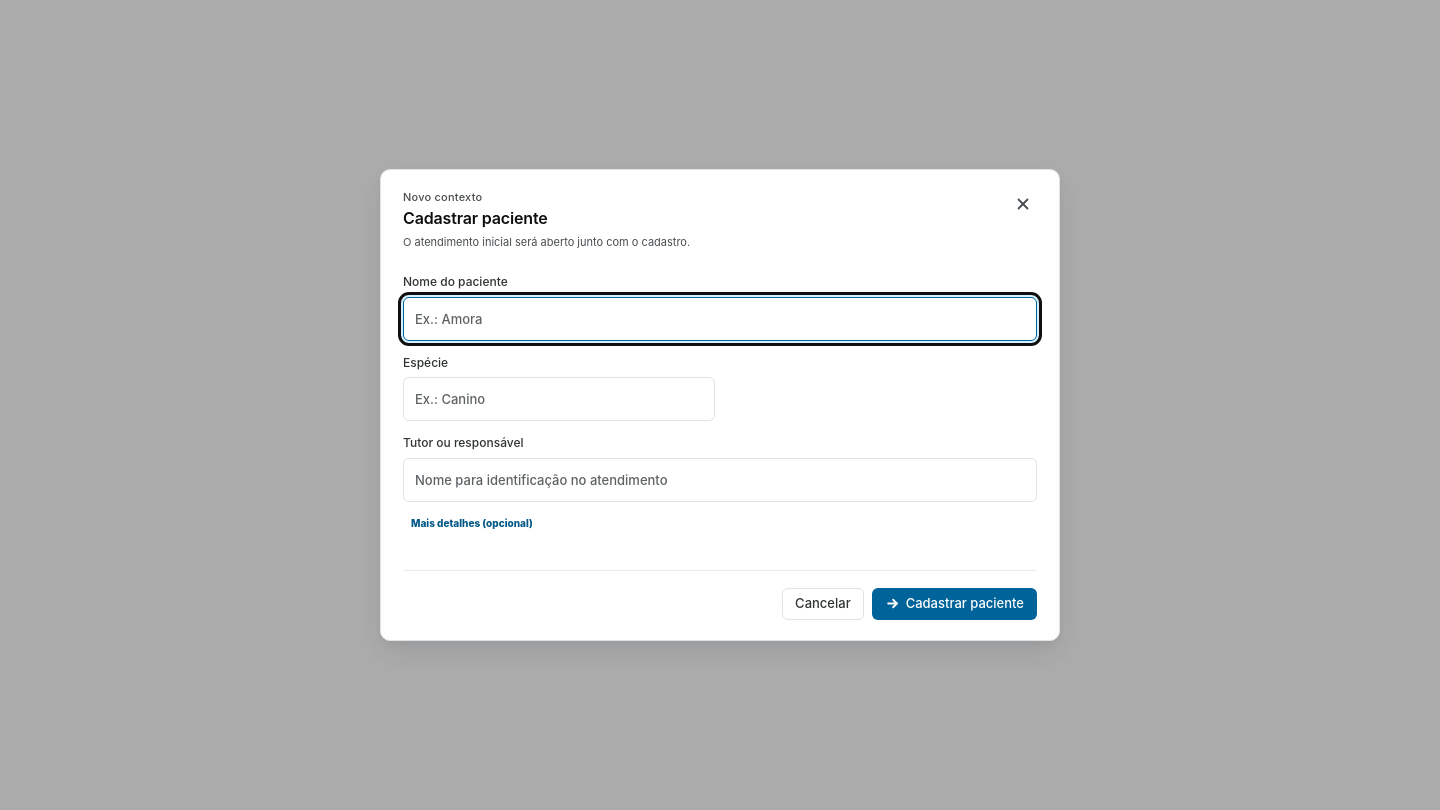
PatientDialog › blocks inpatient submission without a registered eligible bed even with optional details collapsed
Type "Amora" into the field labelled "Nome do paciente" at (720, 319), box [403,297,1037,341]
Type "Canino" into the field labelled "Espécie" at (559, 399), box [403,377,715,421]
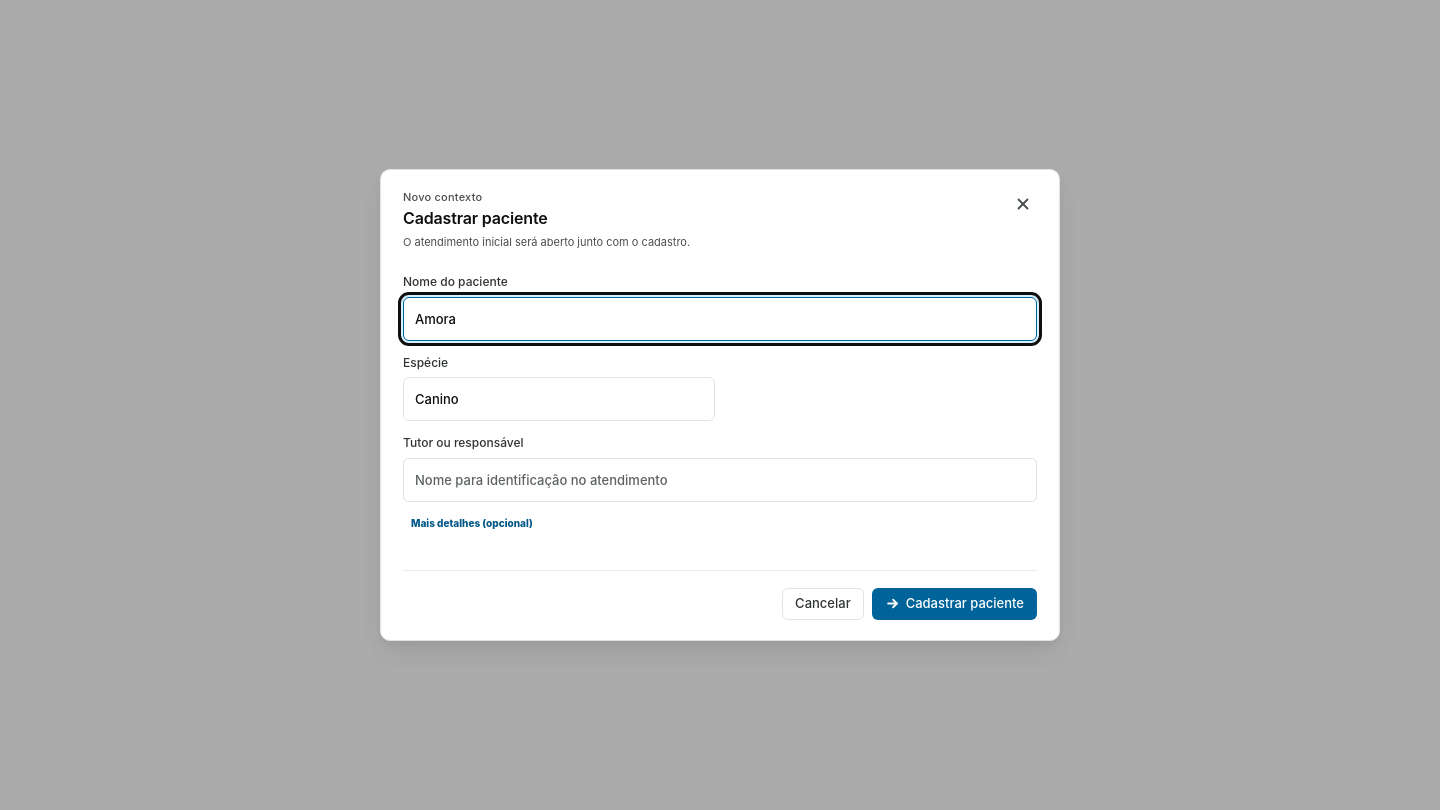
Type "Maria" into the field labelled "Tutor ou responsável" at (720, 480), box [403,458,1037,502]
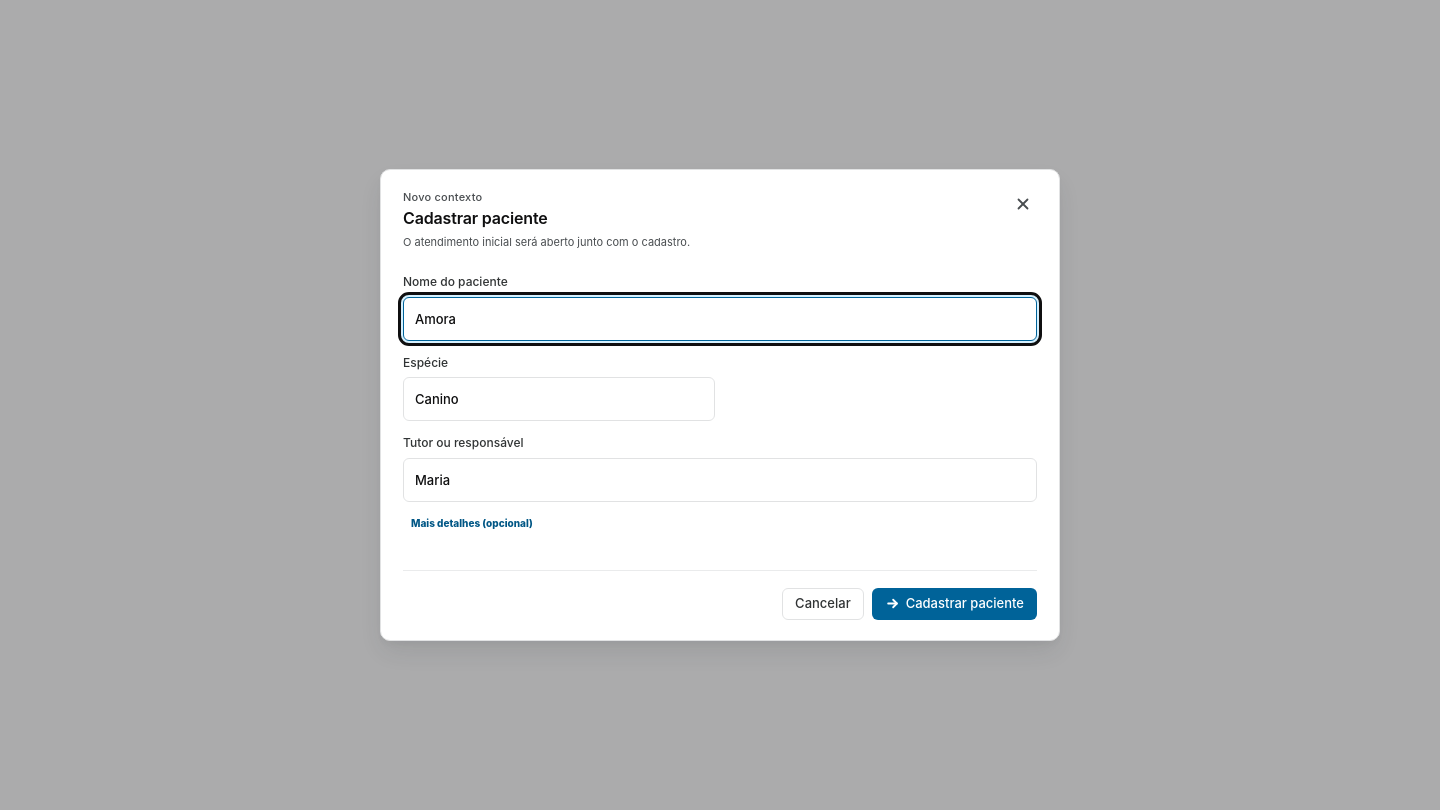
Click the button "Mais detalhes (opcional)" at (472, 524), box [403,502,541,546]
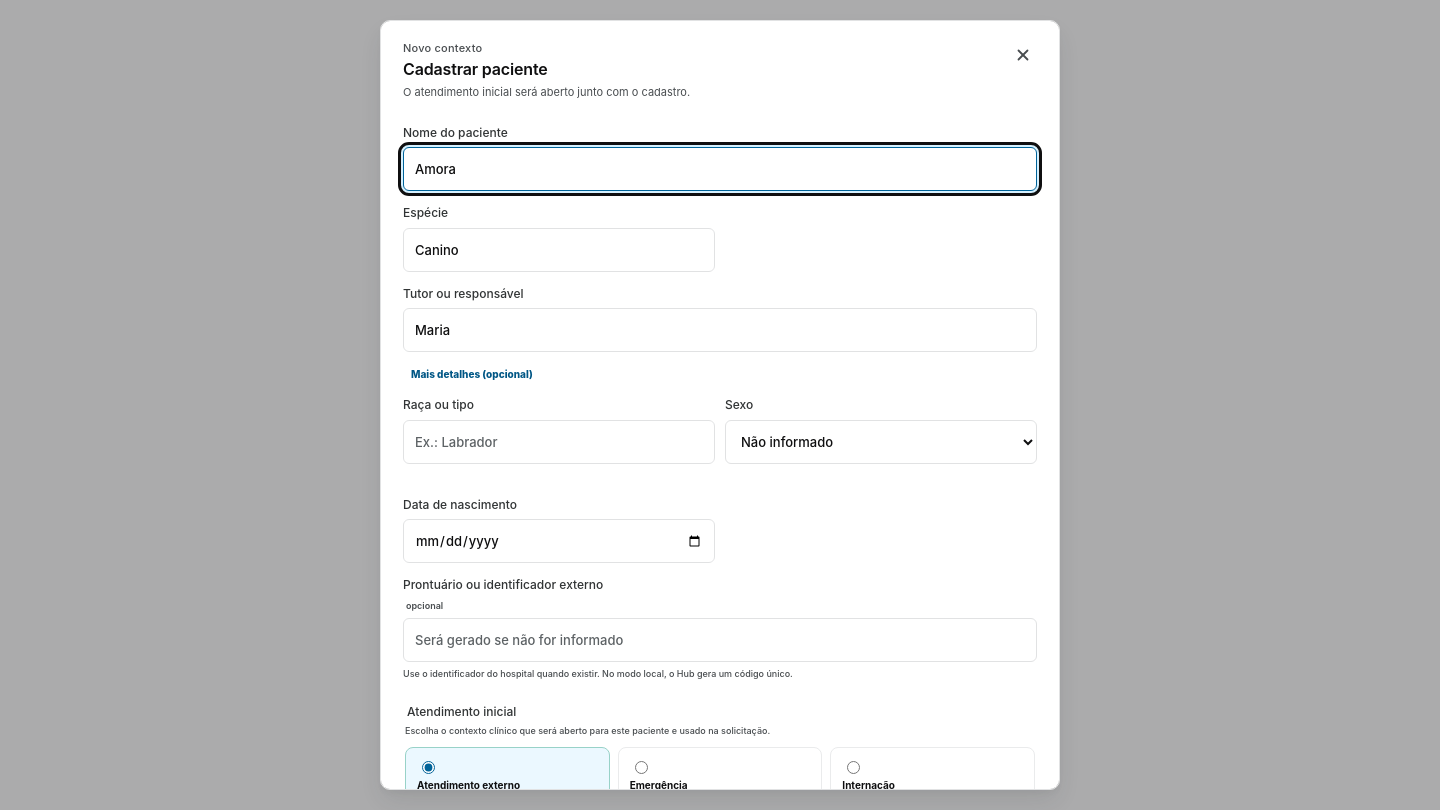
Click the radio button labelled "Internação Abre internação com leito cadastrado." at (854, 768), box [847,761,860,774]
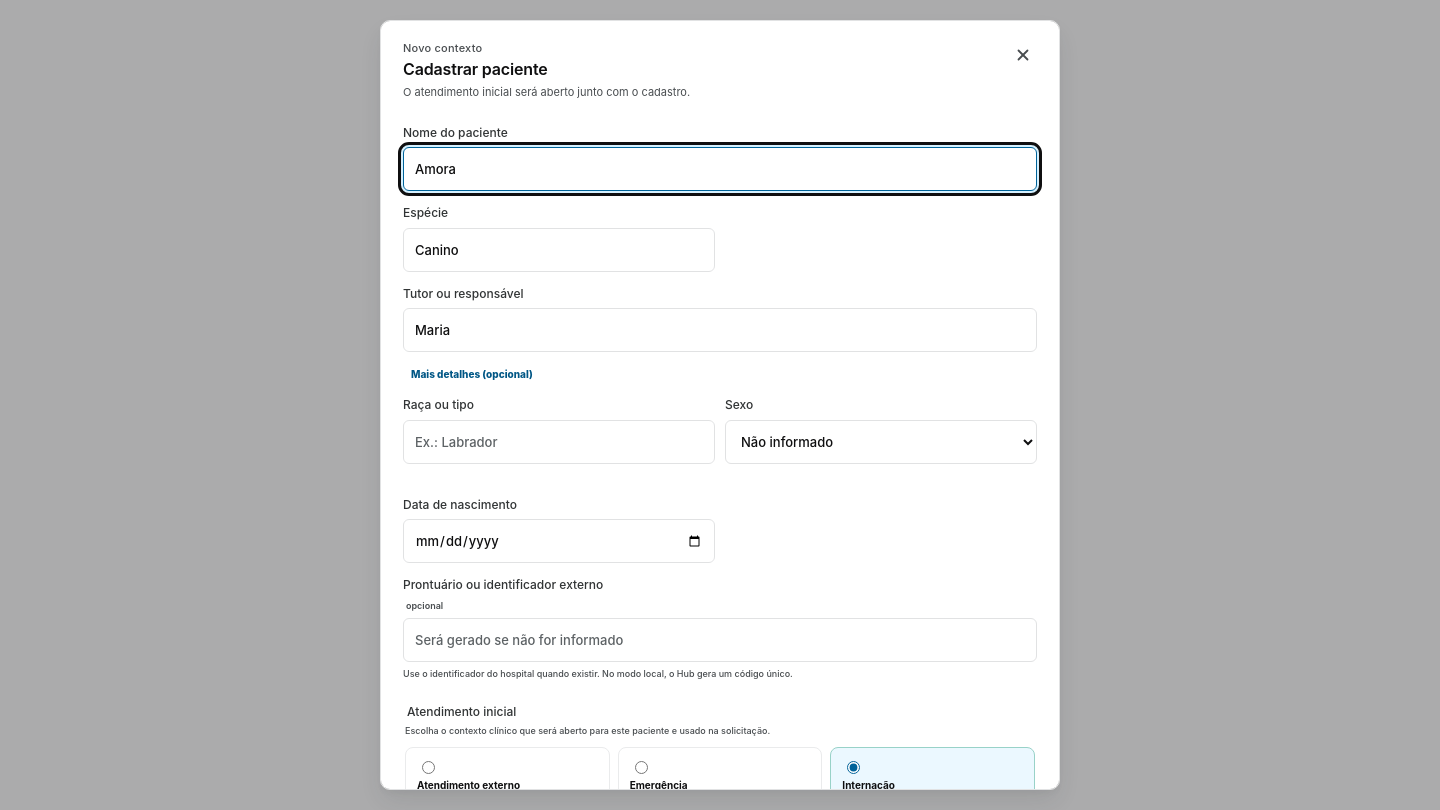
Click the button "Mais detalhes (opcional)" at (472, 374), box [403,352,541,396]
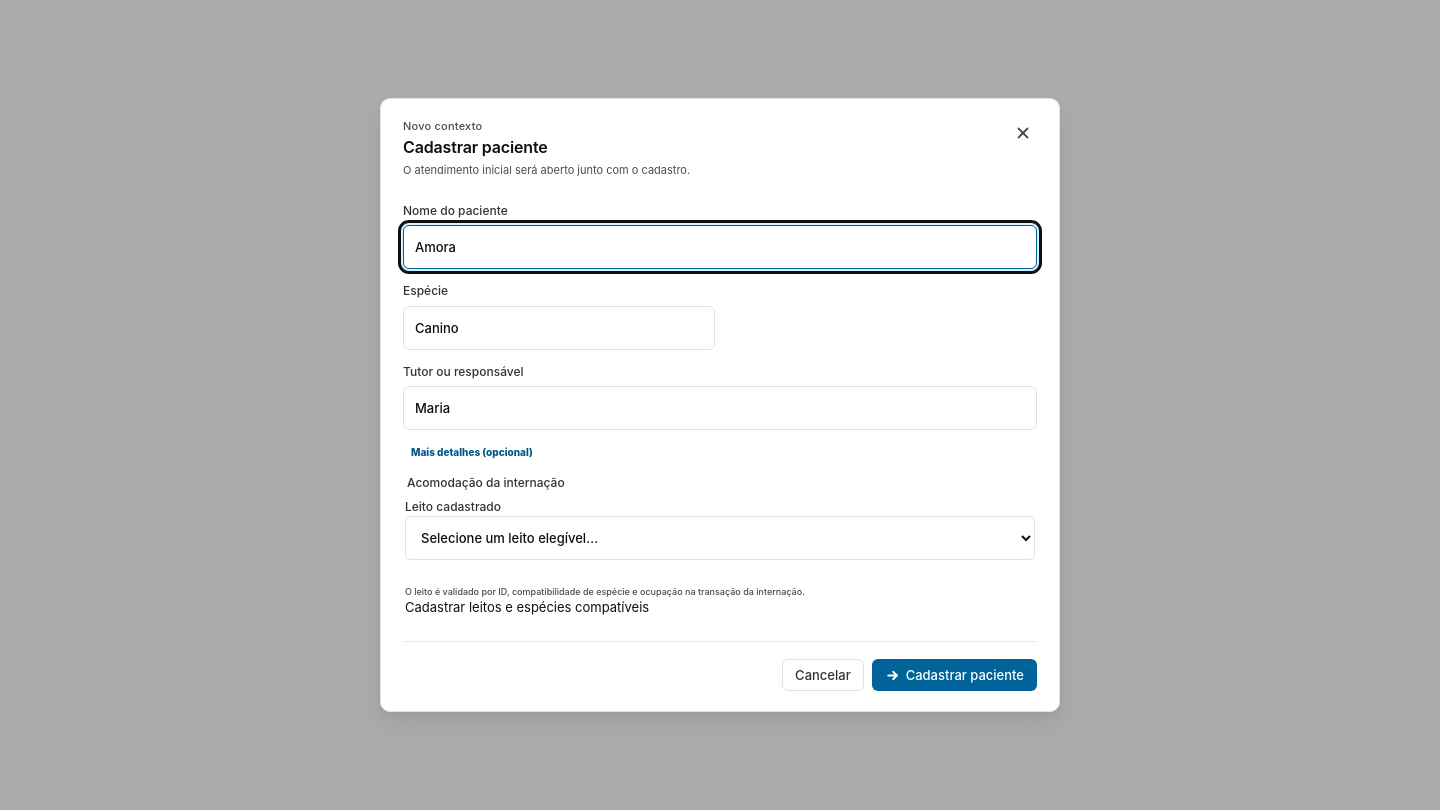
Expected: the dropdown labelled "Leito cadastrado" is shown, [405,516,1035,560]
Submit the form named "Confirmar cadastro de paciente", box [403,202,1037,691]
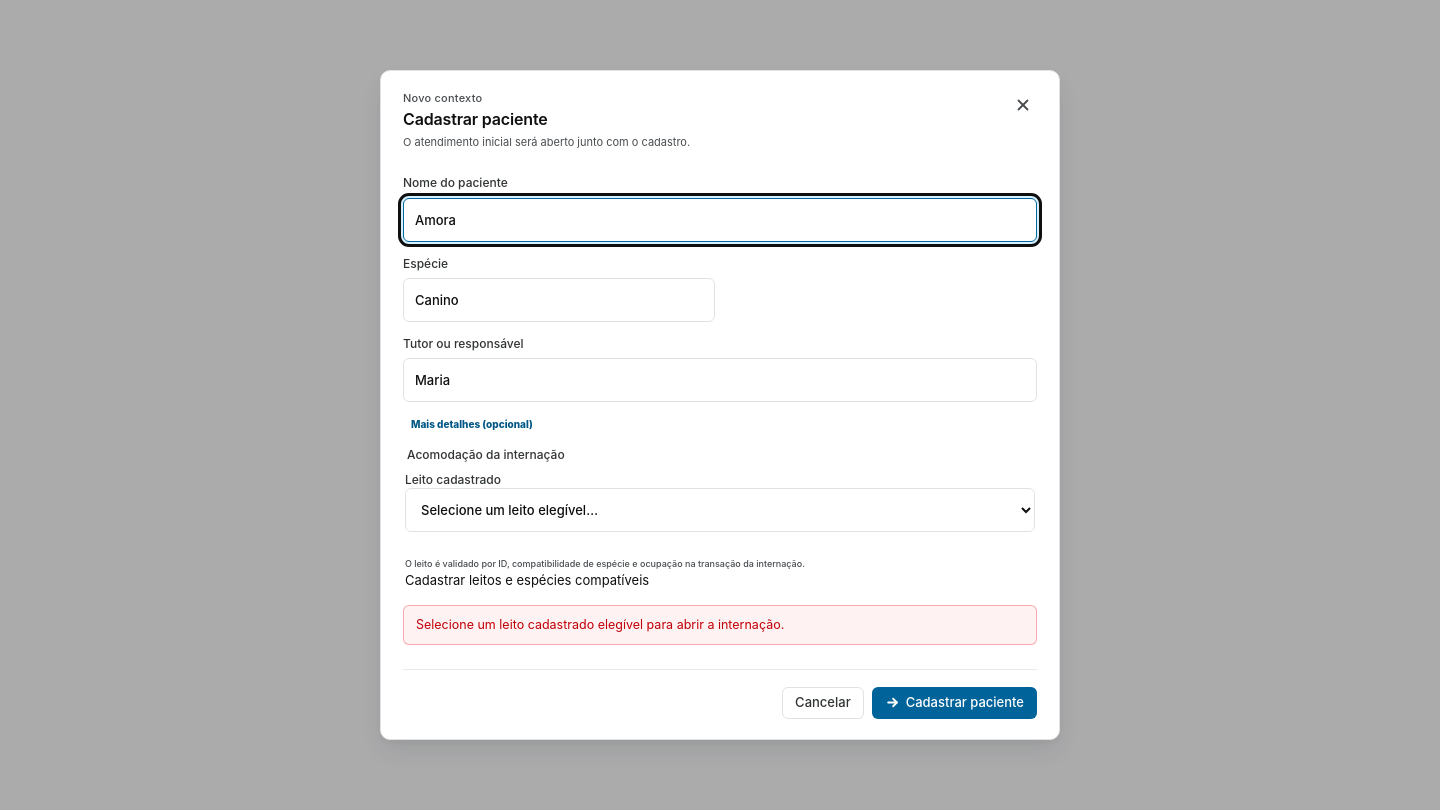
Expected: the message shows "leito cadastrado", [416,617,784,632]
